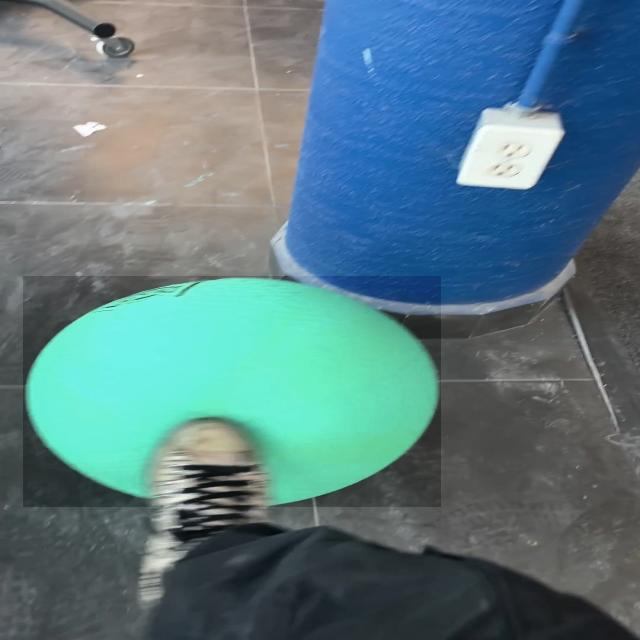Algae: (23, 276, 441, 507)
